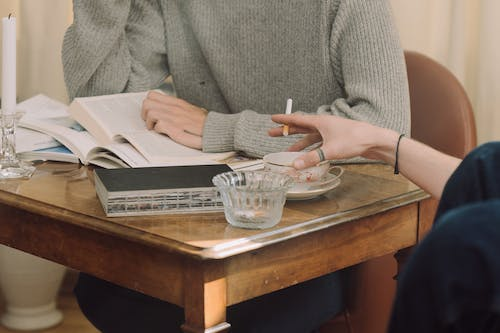cigarette: (281, 96, 294, 137)
